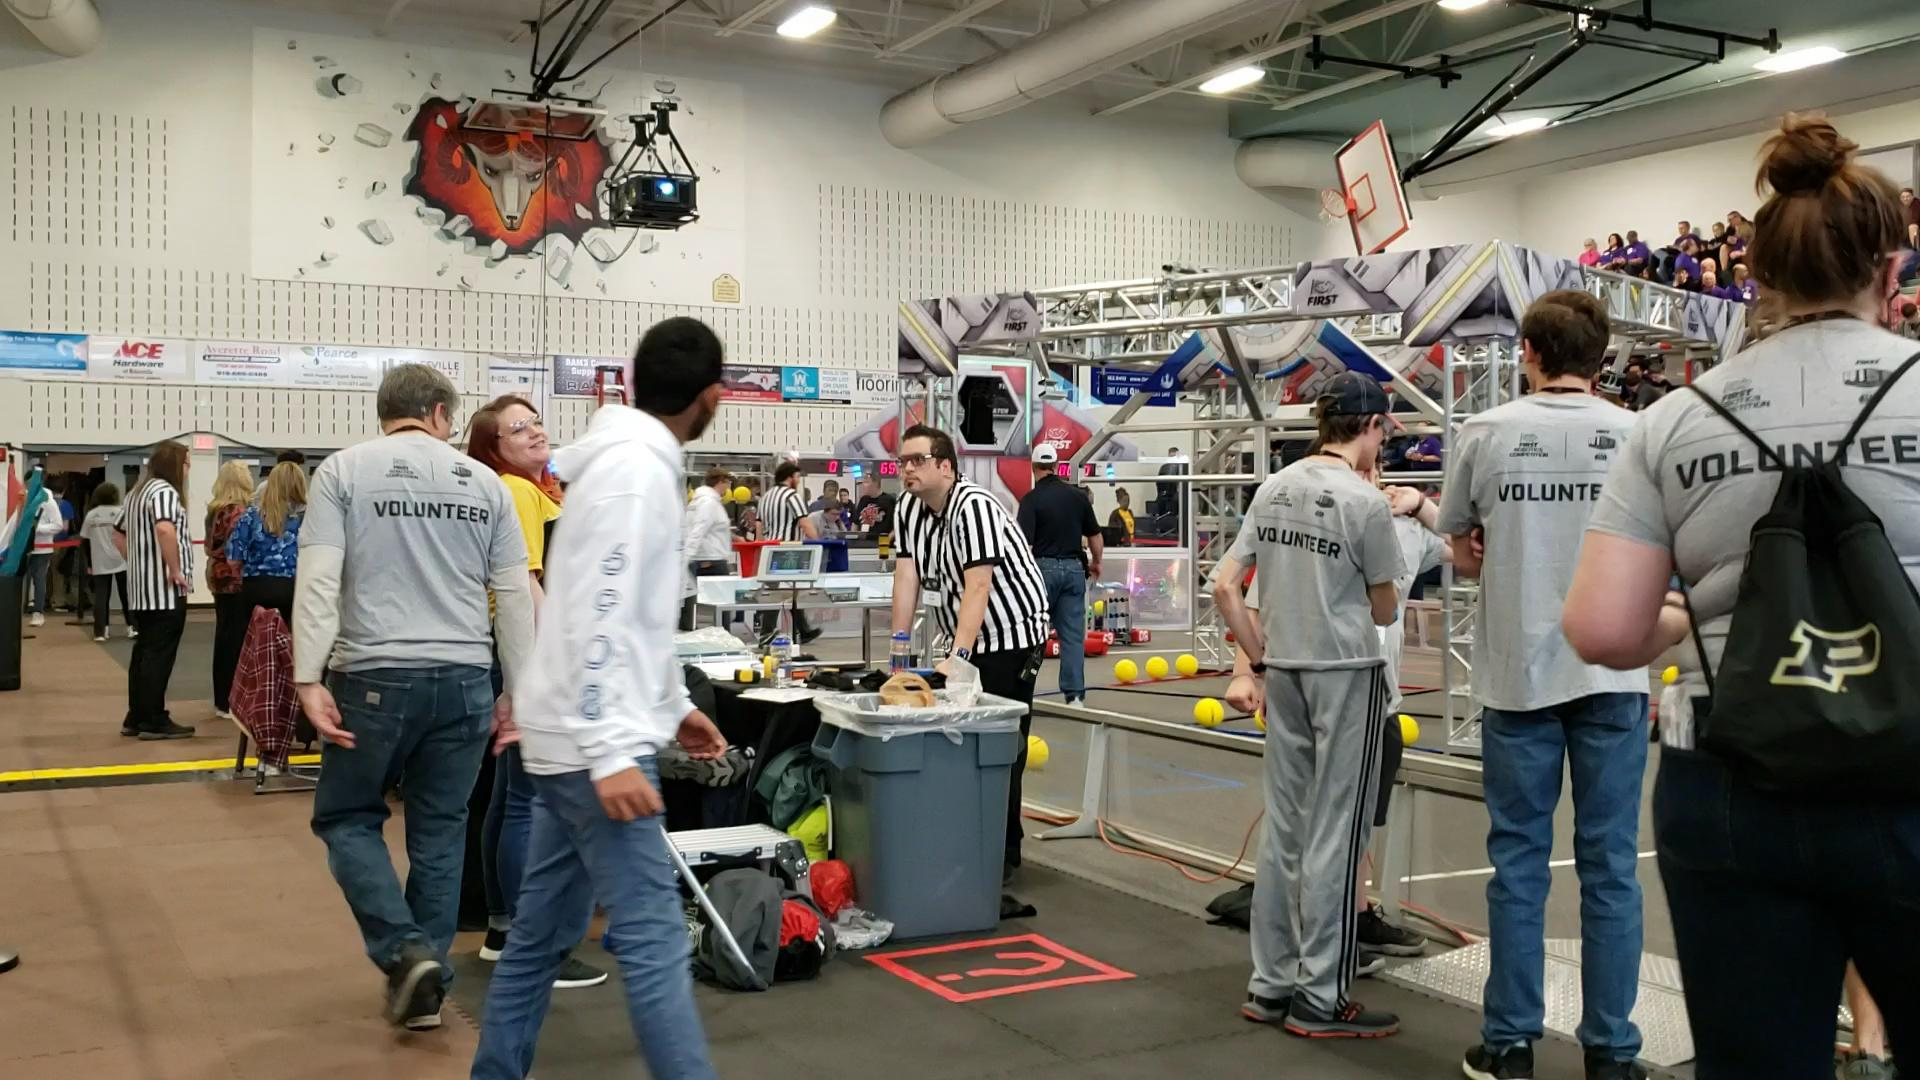robot: (1079, 584, 1149, 649), (1042, 603, 1102, 661)
